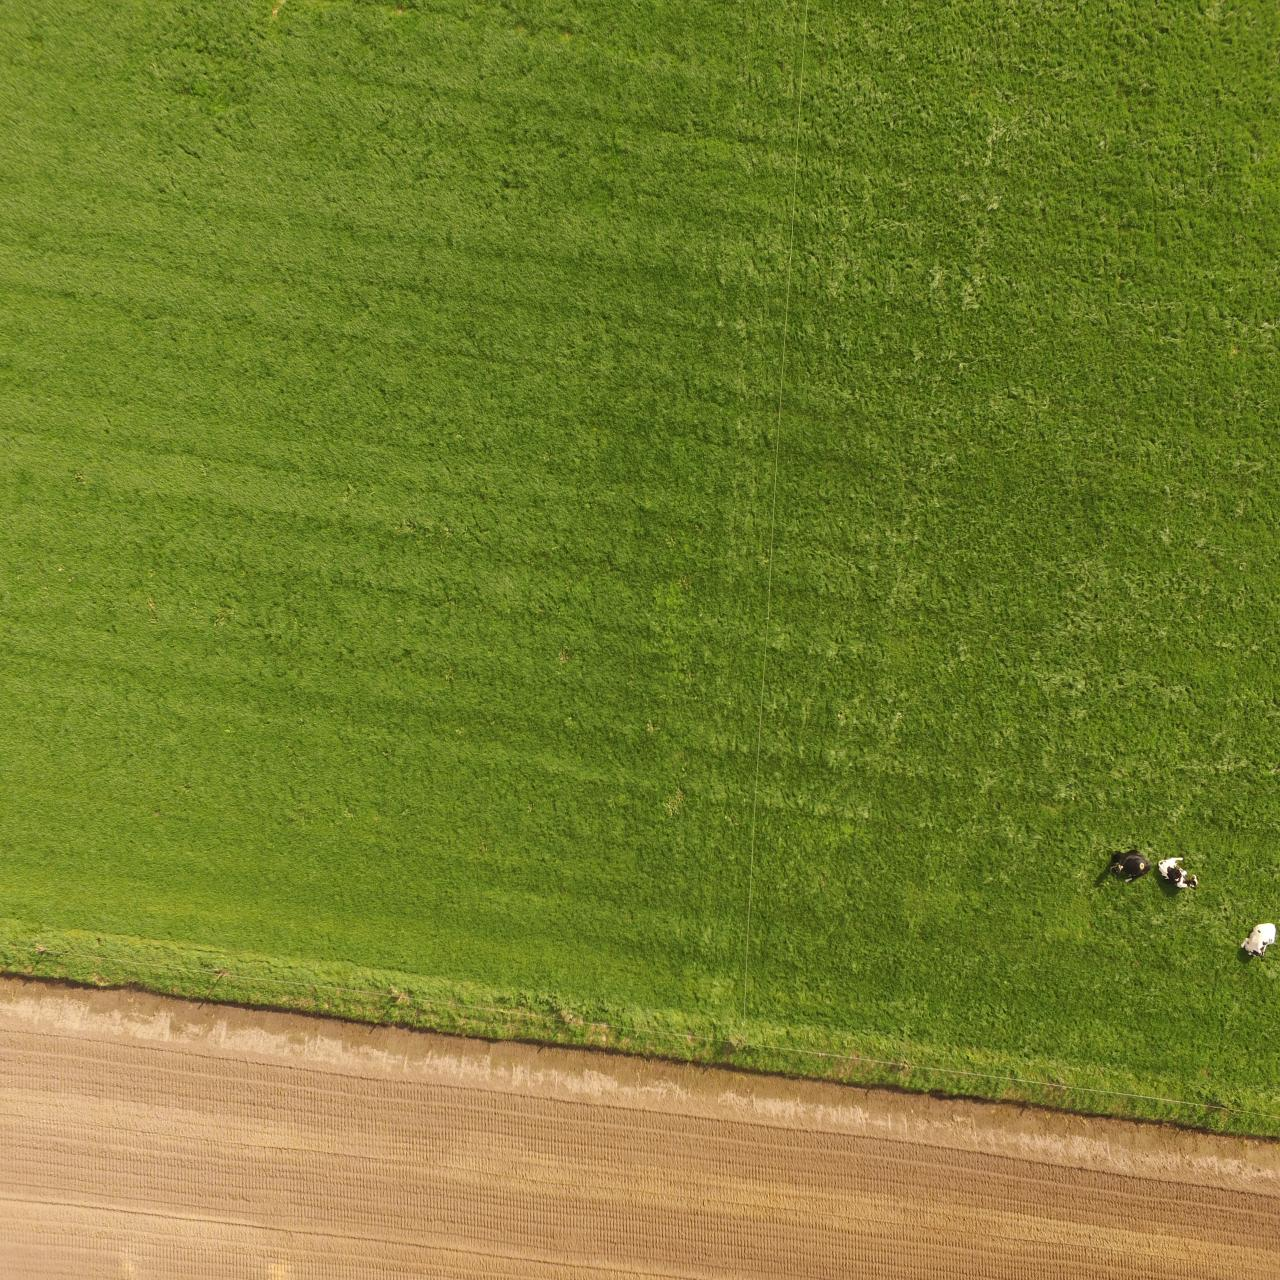cow: (1155, 851, 1201, 894), (1107, 846, 1152, 885), (1239, 919, 1278, 959)
